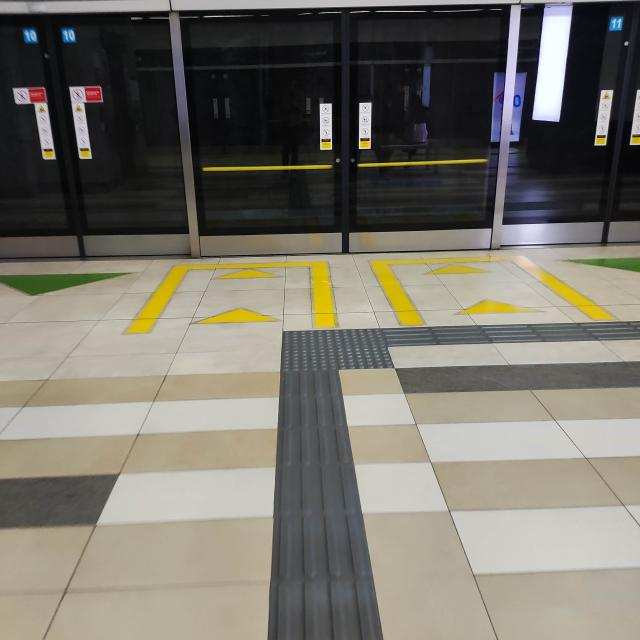kanan: (252, 310, 465, 385)
